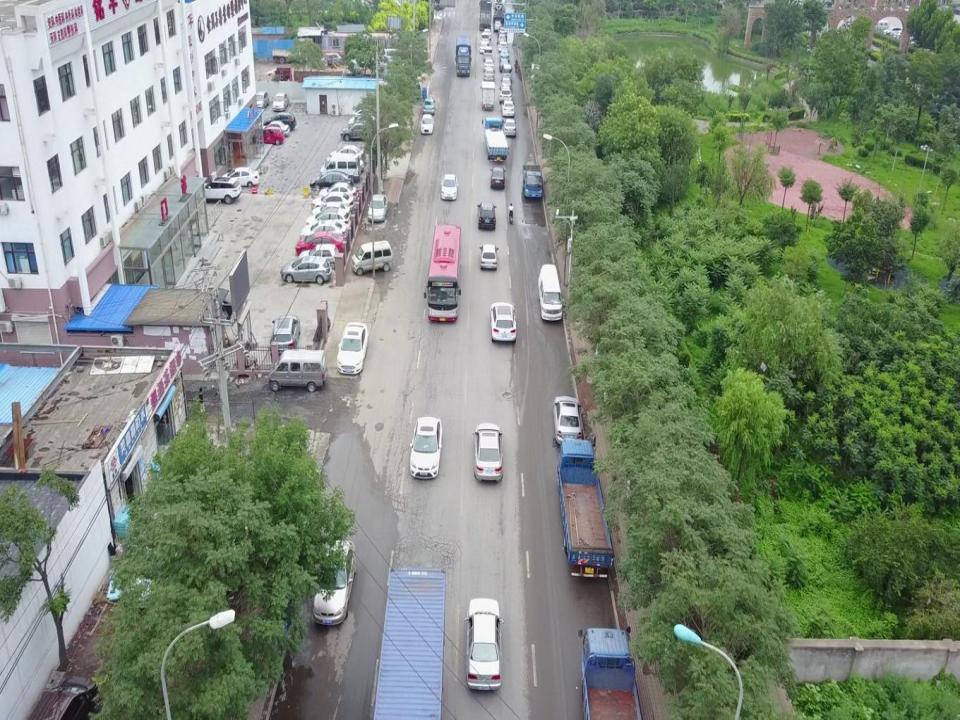bus: (423, 226, 461, 322)
car: (464, 598, 503, 690), (313, 540, 355, 624), (410, 416, 442, 480), (182, 285, 240, 319), (472, 423, 504, 482), (336, 320, 368, 375), (553, 394, 583, 446), (280, 256, 332, 284), (271, 314, 300, 358), (295, 231, 345, 256), (196, 177, 242, 204), (490, 302, 517, 345), (300, 219, 348, 243), (298, 244, 339, 269), (310, 170, 355, 192), (306, 209, 350, 231), (311, 191, 355, 213), (318, 182, 360, 203), (217, 167, 259, 187), (312, 202, 351, 222), (330, 145, 365, 162), (476, 202, 496, 230), (263, 113, 295, 130), (479, 244, 499, 271), (368, 194, 388, 221), (340, 124, 371, 141), (440, 174, 458, 200), (253, 131, 286, 145), (257, 122, 290, 136), (489, 167, 506, 189), (348, 115, 379, 127), (318, 52, 343, 66), (252, 92, 270, 109), (272, 92, 288, 111), (420, 114, 434, 134), (352, 108, 375, 120), (502, 118, 516, 137), (882, 27, 904, 39), (500, 100, 515, 117), (498, 86, 513, 103), (894, 30, 914, 42), (422, 97, 436, 114), (483, 68, 495, 81), (498, 60, 509, 72), (499, 48, 510, 60), (501, 78, 511, 90), (484, 58, 494, 70), (479, 42, 489, 54), (497, 32, 506, 45), (498, 26, 507, 38), (482, 29, 491, 40), (498, 40, 506, 51), (494, 21, 501, 31)
truck: (556, 436, 614, 576), (578, 626, 642, 720), (454, 36, 472, 75), (480, 81, 494, 111), (479, 0, 492, 32), (493, 0, 507, 24)
van: (27, 676, 100, 720), (269, 349, 327, 393), (537, 263, 565, 322), (351, 240, 392, 275), (483, 116, 510, 161), (320, 154, 360, 182), (522, 164, 543, 200), (374, 48, 402, 67), (868, 20, 888, 33), (501, 64, 513, 82), (483, 46, 493, 61), (480, 33, 490, 45)
